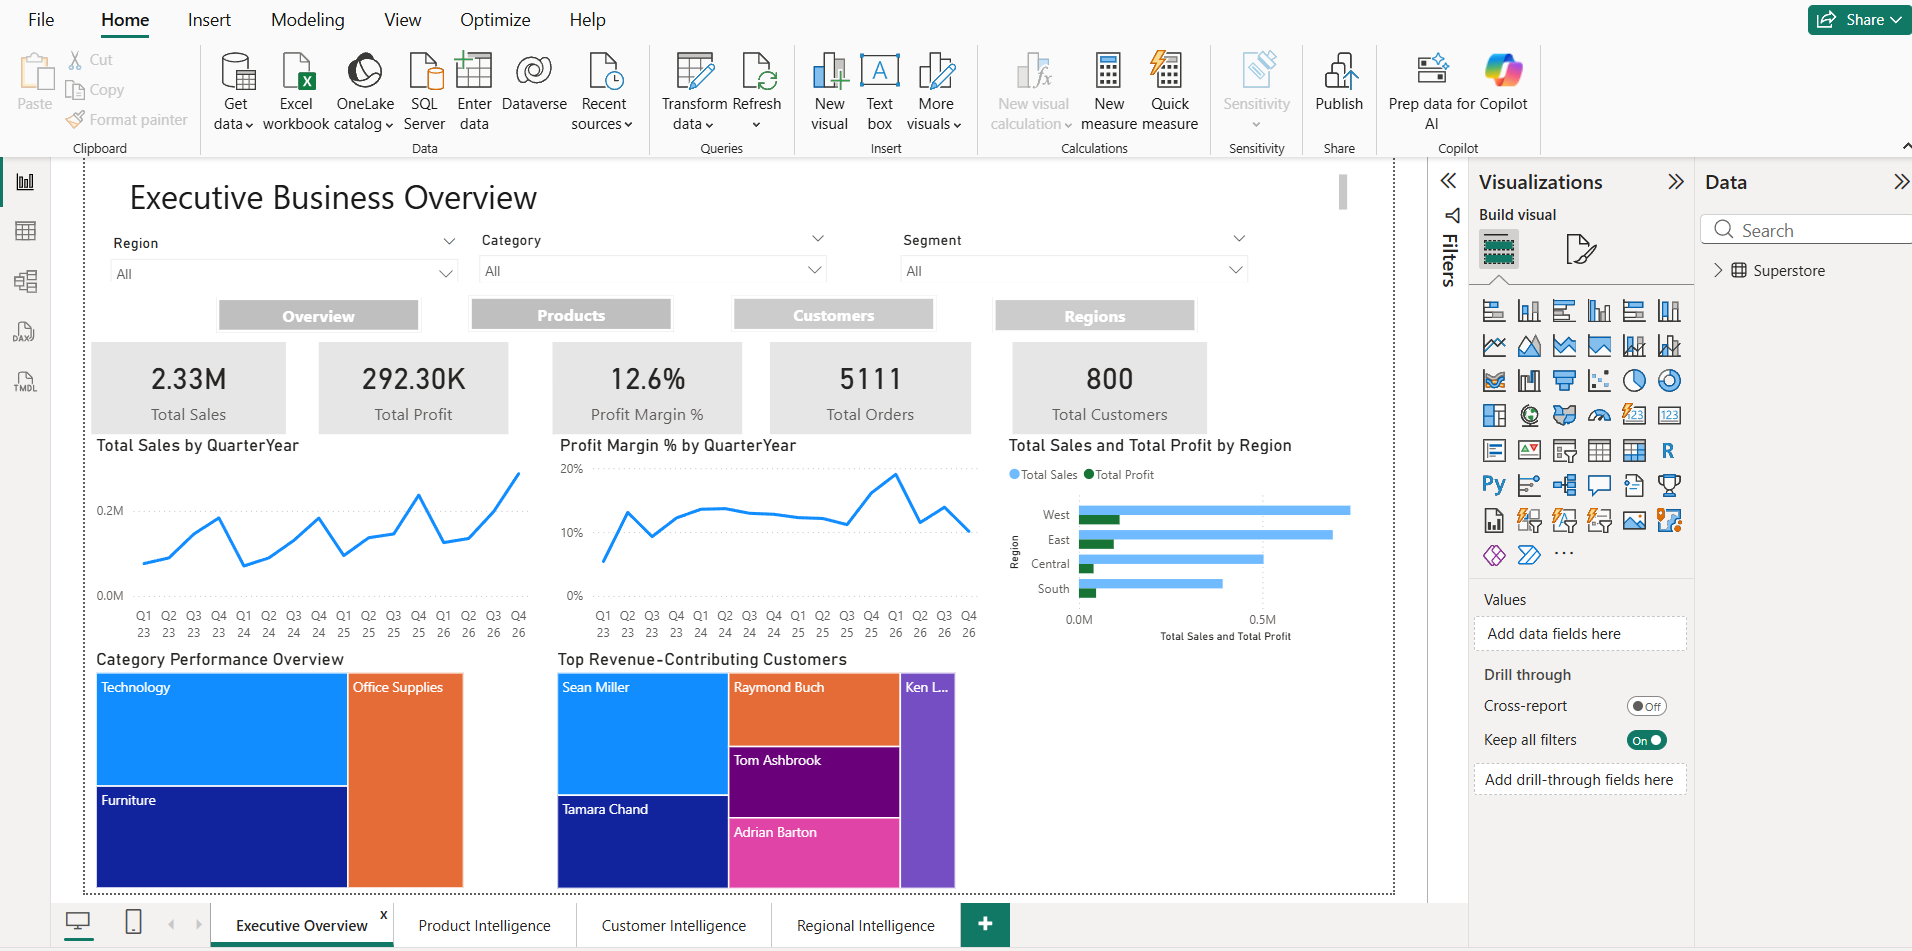

Layout of this report page (visuals, bound fields, positions):
{"tool":"powerbi","page":{"name":"Executive Overview","canvas":[1280,720],"ordinal":0},"visuals":[{"type":"card","fields":{"Values":["Superstore.Total Sales"]},"box":[6.1,181,190.8,90.5],"z":0},{"type":"card","fields":{"Values":["Superstore.Total Profit"]},"box":[228.7,181,185.9,90.5],"z":1000},{"type":"card","fields":{"Values":["Superstore.Profit Margin %"]},"box":[457.3,181,185.9,90.5],"z":2000},{"type":"card","fields":{"Values":["Superstore.Total Orders"]},"box":[670.1,181,196.9,90.5],"z":3000},{"type":"card","fields":{"Values":["Superstore.Total Customers"]},"box":[907.3,181,190.8,90.5],"z":4000},{"type":"clusteredBarChart","fields":{"Category":["Superstore.Region"],"Y":["Superstore.Total Sales","Superstore.Total Profit"]},"box":[896.3,271.5,384,209.1],"z":5000},{"type":"treemap","title":"Category Performance Overview","fields":{"Group":["Superstore.Category"],"Values":["Superstore.Total Sales"]},"box":[6.1,480.6,369.3,239.7],"z":6000},{"type":"treemap","title":"Top Revenue-Contributing Customers","fields":{"Group":["Superstore.Customer Name"],"Values":["Superstore.Total Sales"]},"box":[456.9,480.3,399.3,240.1],"z":7000},{"type":"lineChart","fields":{"Y":["Superstore.Total Sales"],"Category":["Superstore.QuarterYear"]},"box":[6.1,271.5,434.1,209.1],"z":8000},{"type":"slicer","fields":{"Values":["Superstore.Region"]},"box":[14.7,70.9,360.7,51.4],"z":9000},{"type":"slicer","fields":{"Values":["Superstore.Category"]},"box":[375.4,67.3,360.7,55],"z":10000},{"type":"slicer","fields":{"Values":["Superstore.Segment"]},"box":[787.5,67.3,360.7,55],"z":11000},{"type":"textbox","box":[37.9,12.2,1202,55],"z":12000},{"type":"lineChart","fields":{"Category":["Superstore.QuarterYear"],"Y":["Superstore.Profit Margin %"]},"box":[459.8,271.5,420.7,209.1],"z":13000},{"type":"actionButton","box":[375.4,135.7,200.5,35.5],"z":14000},{"type":"actionButton","box":[632.2,135.7,200.5,35.5],"z":15000},{"type":"actionButton","box":[887.8,137,200.5,35.5],"z":16000},{"type":"actionButton","box":[128.4,137,200.5,35],"z":17000}]}

Visuals, with their boxes on the page's 1280x720 design canvas (x1, y1, x2, y2). These are canvas units, not pixel positions in the 1912x951 screenshot, which may show the page scaled, cropped or inside an application window:
card - Superstore.Total Sales: x1=6 y1=181 x2=197 y2=272
card - Superstore.Total Profit: x1=229 y1=181 x2=415 y2=272
card - Superstore.Profit Margin %: x1=457 y1=181 x2=643 y2=272
card - Superstore.Total Orders: x1=670 y1=181 x2=867 y2=272
card - Superstore.Total Customers: x1=907 y1=181 x2=1098 y2=272
clusteredBarChart - Superstore.Region x Superstore.Total Sales: x1=896 y1=272 x2=1280 y2=481
"Category Performance Overview" treemap: x1=6 y1=481 x2=375 y2=720
"Top Revenue-Contributing Customers" treemap: x1=457 y1=480 x2=856 y2=720
lineChart - Superstore.Total Sales x Superstore.QuarterYear: x1=6 y1=272 x2=440 y2=481
slicer - Superstore.Region: x1=15 y1=71 x2=375 y2=122
slicer - Superstore.Category: x1=375 y1=67 x2=736 y2=122
slicer - Superstore.Segment: x1=788 y1=67 x2=1148 y2=122
textbox: x1=38 y1=12 x2=1240 y2=67
lineChart - Superstore.QuarterYear x Superstore.Profit Margin %: x1=460 y1=272 x2=880 y2=481
actionButton: x1=375 y1=136 x2=576 y2=171
actionButton: x1=632 y1=136 x2=833 y2=171
actionButton: x1=888 y1=137 x2=1088 y2=172
actionButton: x1=128 y1=137 x2=329 y2=172
